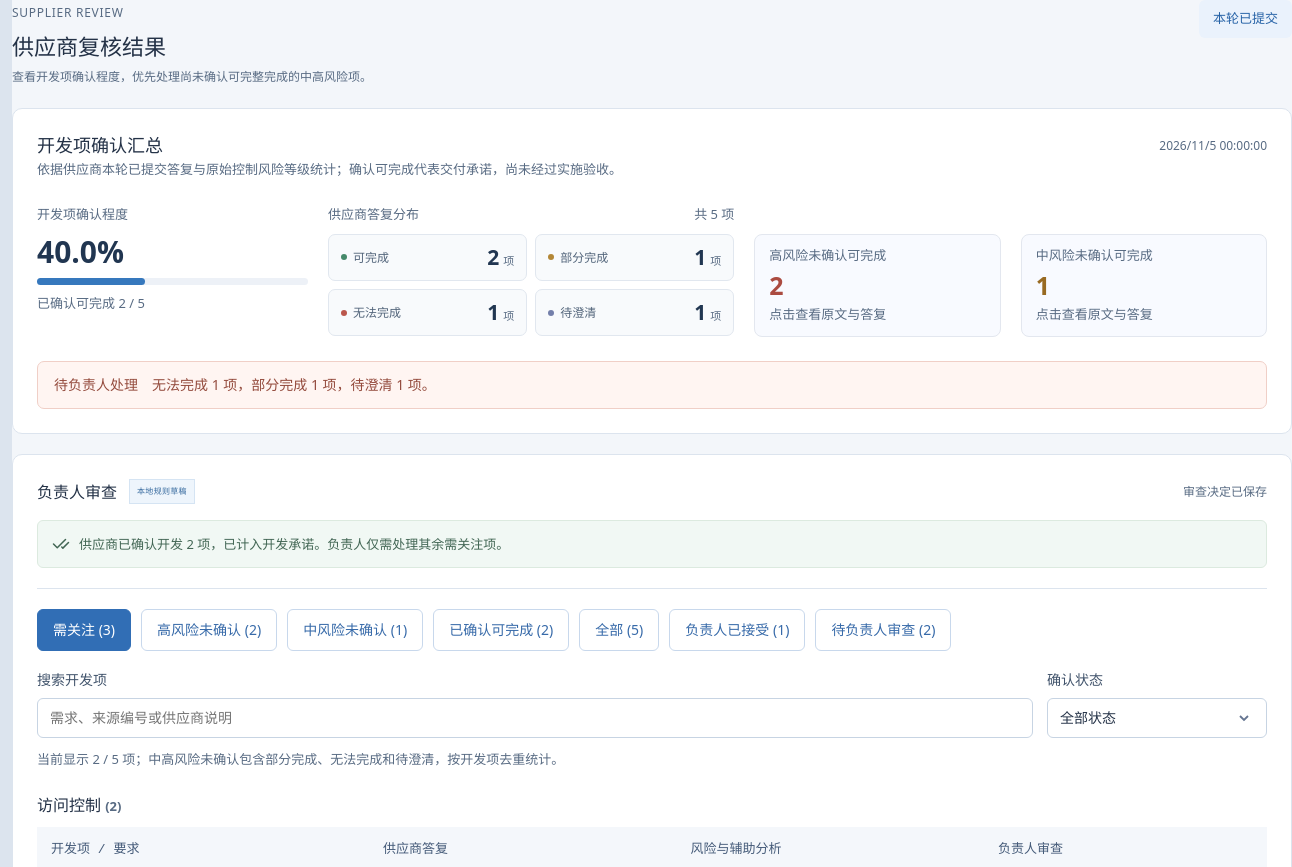
Test case: shows Medium after saved high-risk acceptance while retaining the original source
Click the button "负责人已接受 (1)" at (737, 630), box [669,609,805,650]
(page scrolled)
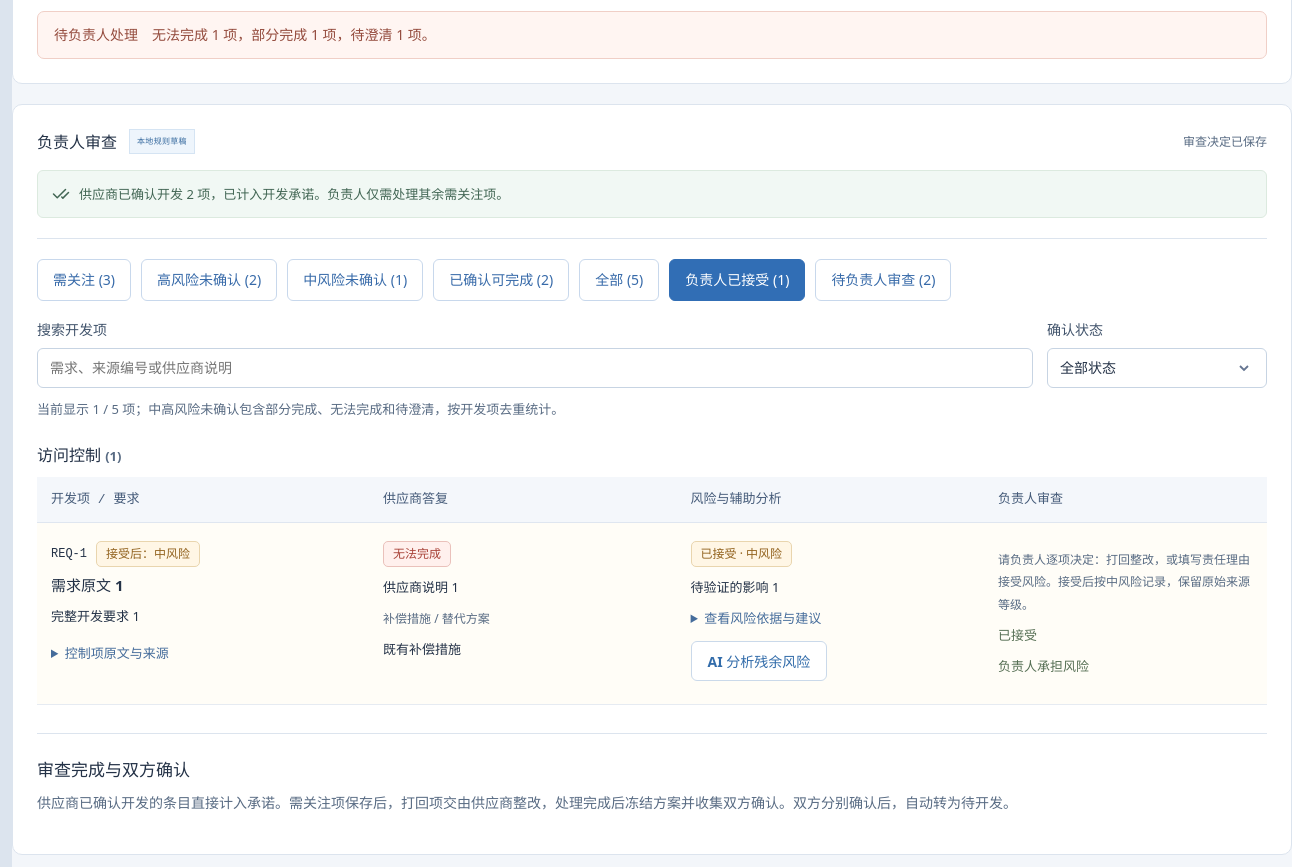
Expected: the text "接受后：中风险" is shown, [96,541,200,567]
Expected: the text "已接受 · 中风险" is shown, [691,541,792,567]
Click the heading "控制项原文与来源" at (117, 653), box [65,644,169,662]
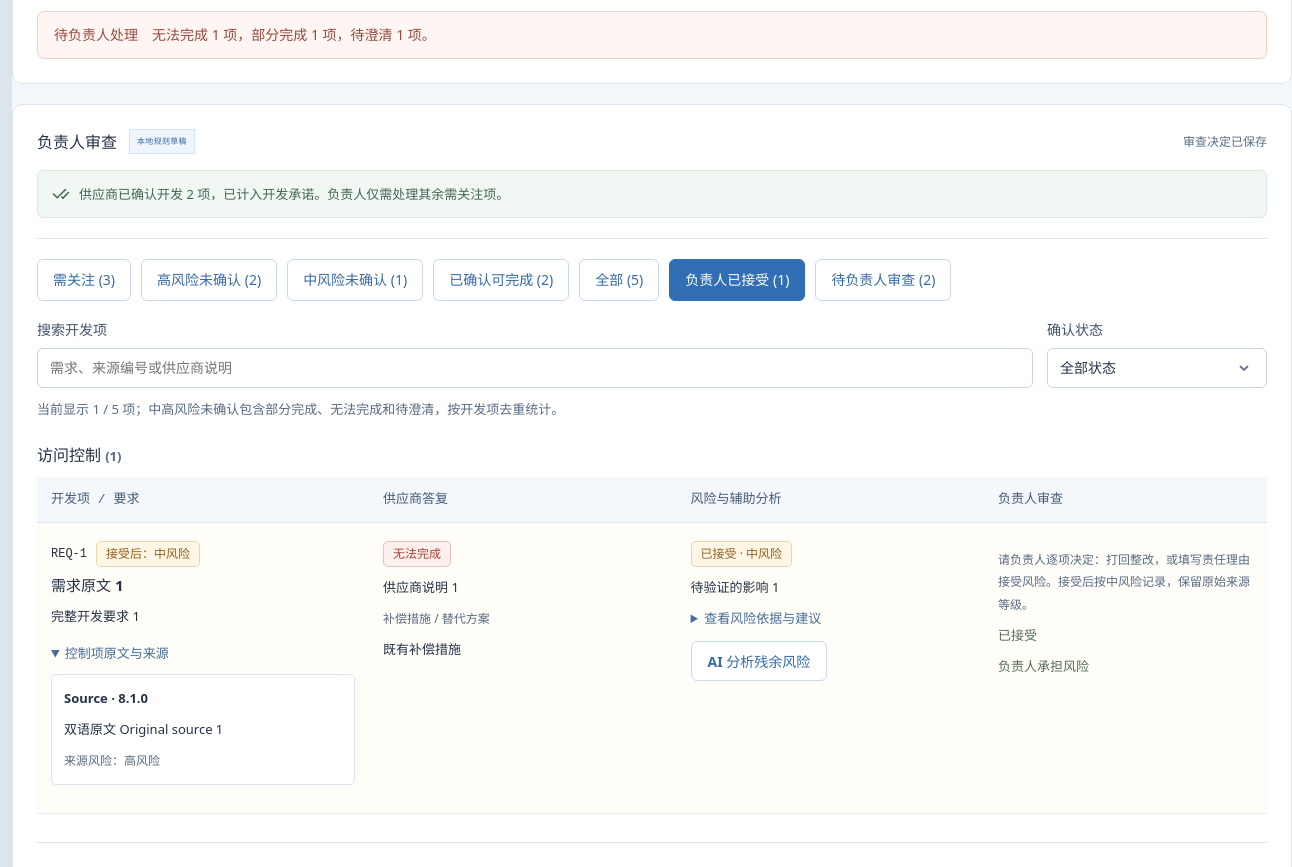
Expected: the text "负责人承担风险" is shown, [998,657,1089,675]
Expected: the text "来源风险：高风险" is shown, [64,752,160,769]
